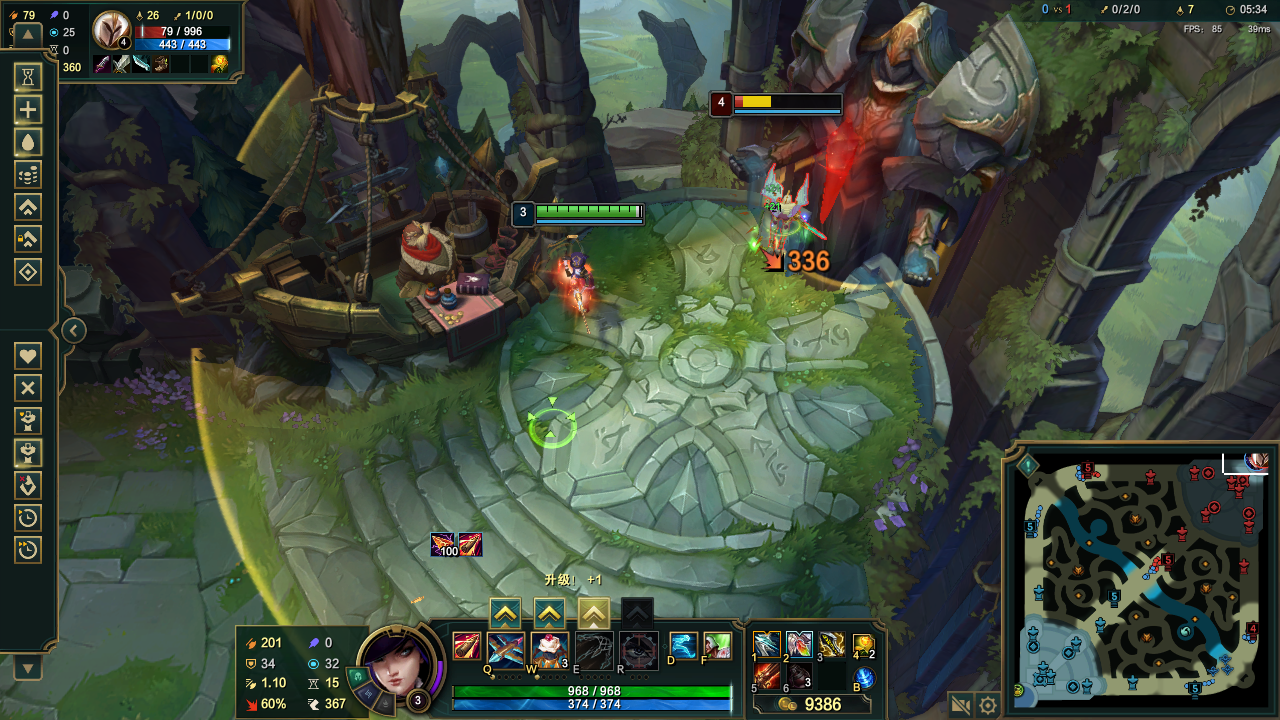DFYX: (732, 94, 841, 109)
